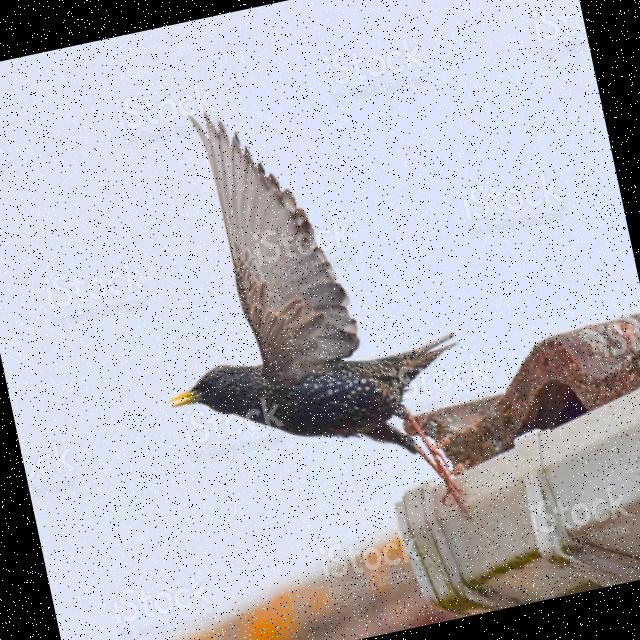bird: (107, 61, 496, 576)
